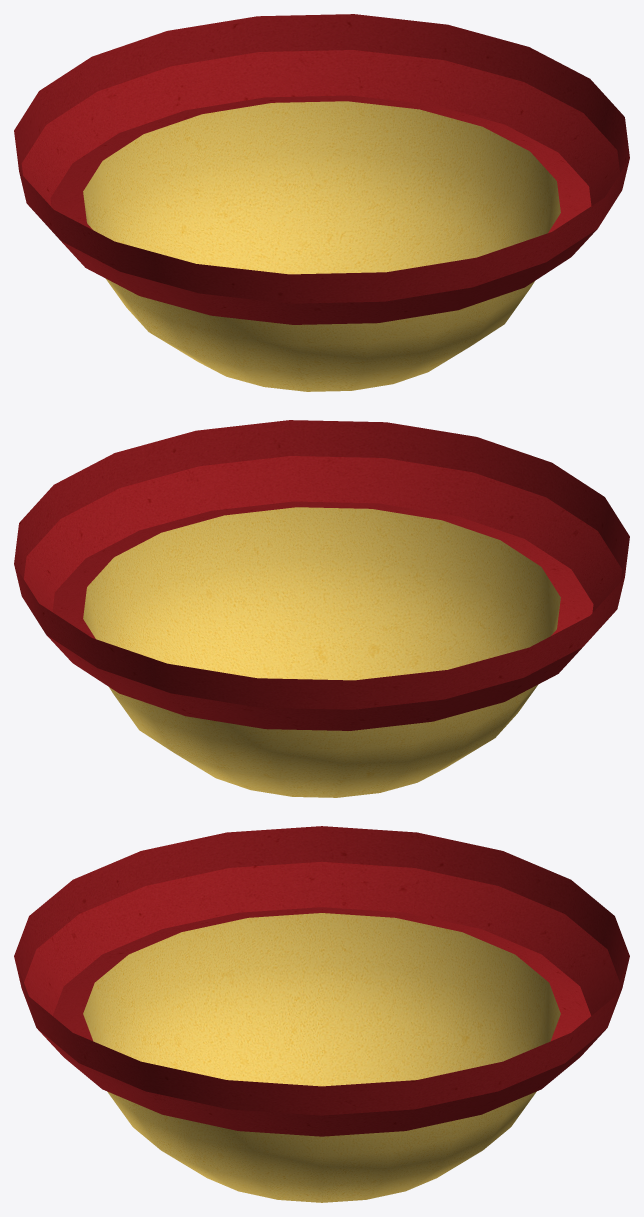
The model's file is lamparatecho.obj.
3 views of the same model, one above another, from view 1: azimuth 30°, elevation 25°; view 2: azimuth 150°, elevation 25°; view 3: azimuth 270°, elevation 25° (orthographic).
Visible parts, largest first — view 1: eb_ceiling_light_01; view 2: eb_ceiling_light_01; view 3: eb_ceiling_light_01.
Part boxes in pixels (<box>): eb_ceiling_light_01: <box>14,14,629,391</box>; eb_ceiling_light_01: <box>14,420,629,797</box>; eb_ceiling_light_01: <box>14,826,629,1202</box>.
Size of the model in its own units: 3.82 by 1.54 by 3.82.
Materials: 3 (3 with a texture image).
